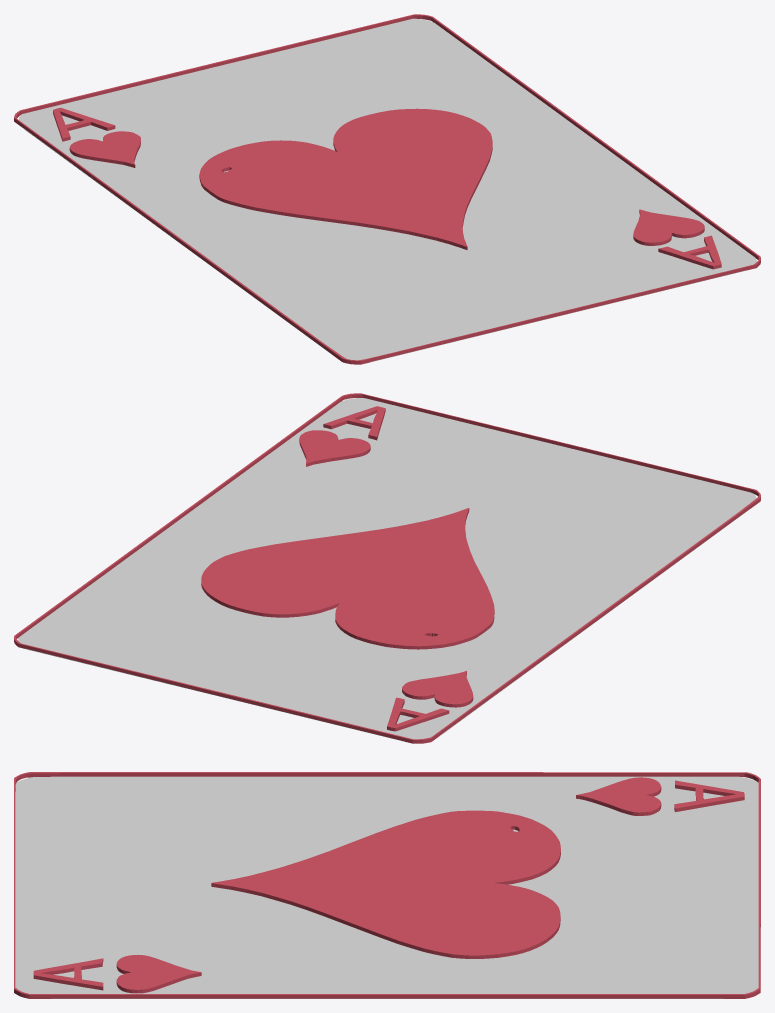
File: 1_hearts.glb
3 views of the same model, one above another, from view 1: azimuth 30°, elevation 25°; view 2: azimuth 150°, elevation 25°; view 3: azimuth 270°, elevation 25° (orthographic). The views are drawn at different scales.
Parts seen in each view (by area): view 1: Mesh_Mesh_head_geo.001_lambert2SG.001; view 2: Mesh_Mesh_head_geo.001_lambert2SG.001; view 3: Mesh_Mesh_head_geo.001_lambert2SG.001.
Part boxes in pixels (<box>): Mesh_Mesh_head_geo.001_lambert2SG.001: <box>14,14,760,364</box>; Mesh_Mesh_head_geo.001_lambert2SG.001: <box>14,393,760,743</box>; Mesh_Mesh_head_geo.001_lambert2SG.001: <box>14,772,760,998</box>.
Size of the model in its own units: 1.2 by 0.01 by 1.7.
